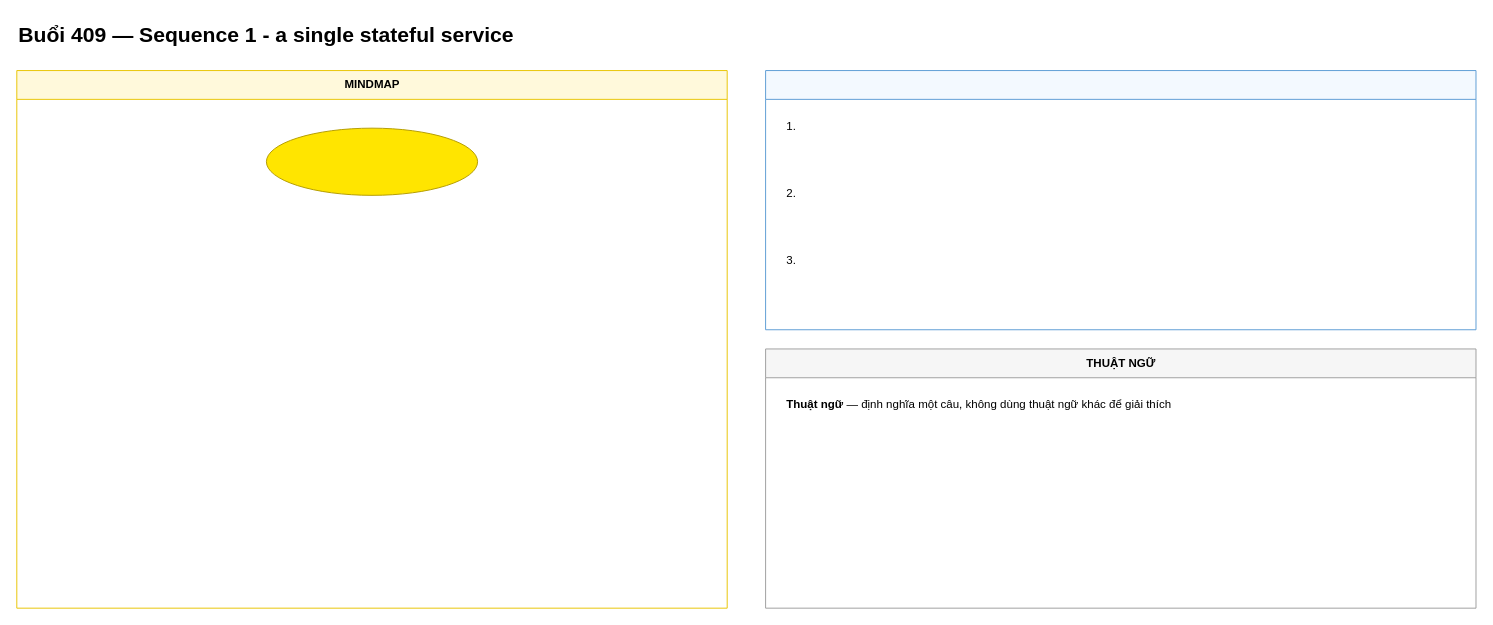
Some shapes in this 1493 by 625 pixel diagram are drawn without their labels. Each missing label, with the box of its shape:
KEY TAKEAWAY — ba điều phải nhớ: (765, 70, 1476, 330)
Sequence 1 - a single stateful service: (265, 127, 478, 195)
